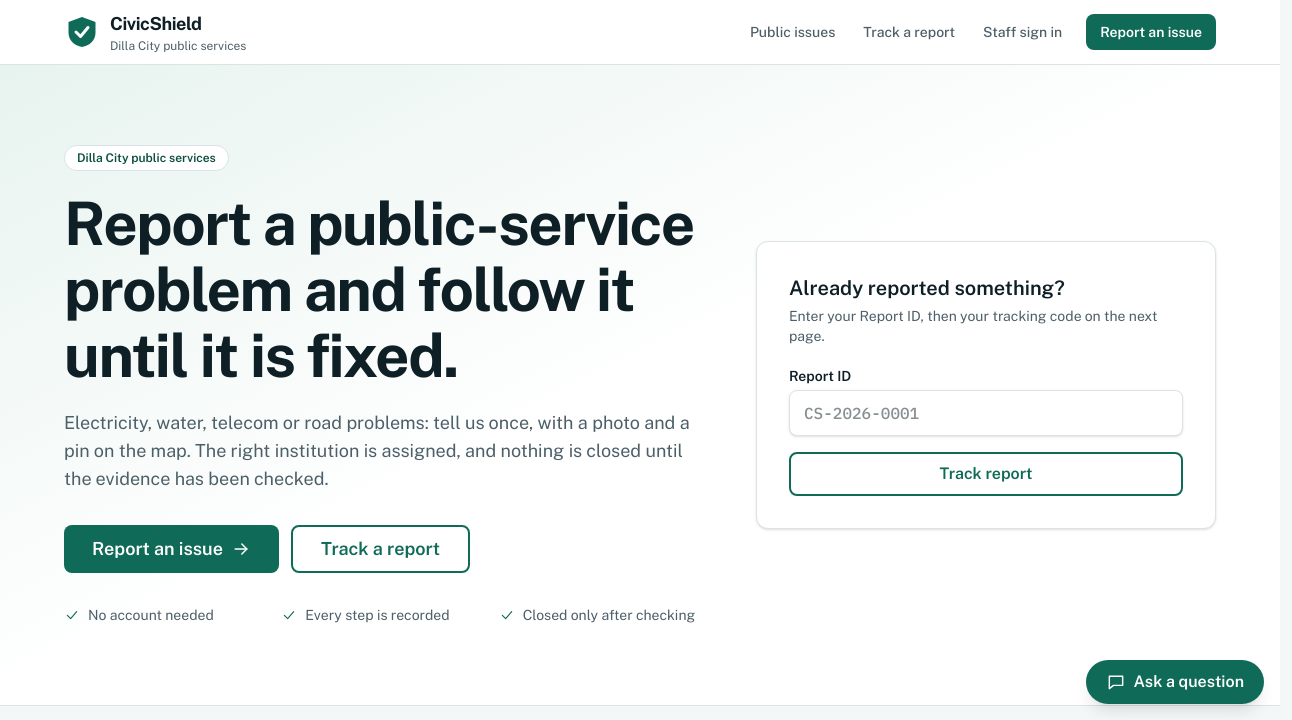
Test: citizen flow › answers from the chatbot and links to tracking
Step 1. Click the button "Ask a question" → (1175, 682), box [1086,660,1264,704]
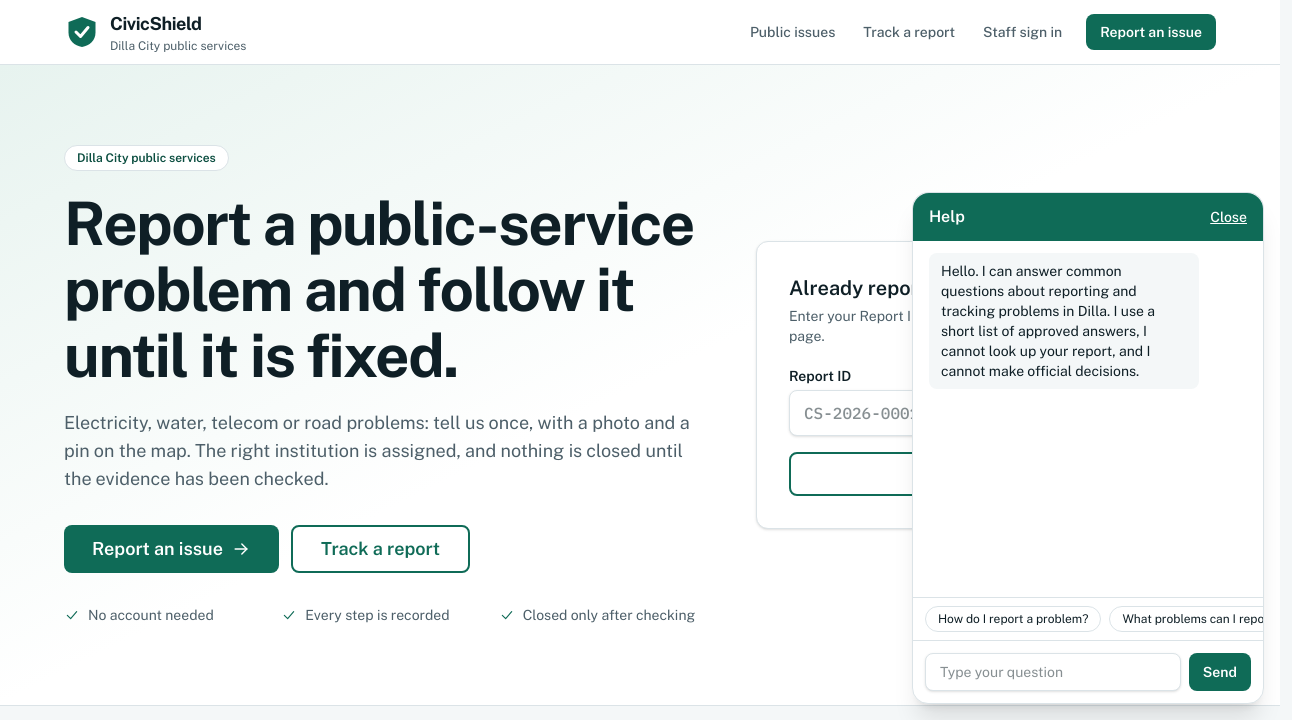
Step 2. Type "How do I track my report?" into the field labelled "your question" → (1053, 672), box [925,653,1181,691]
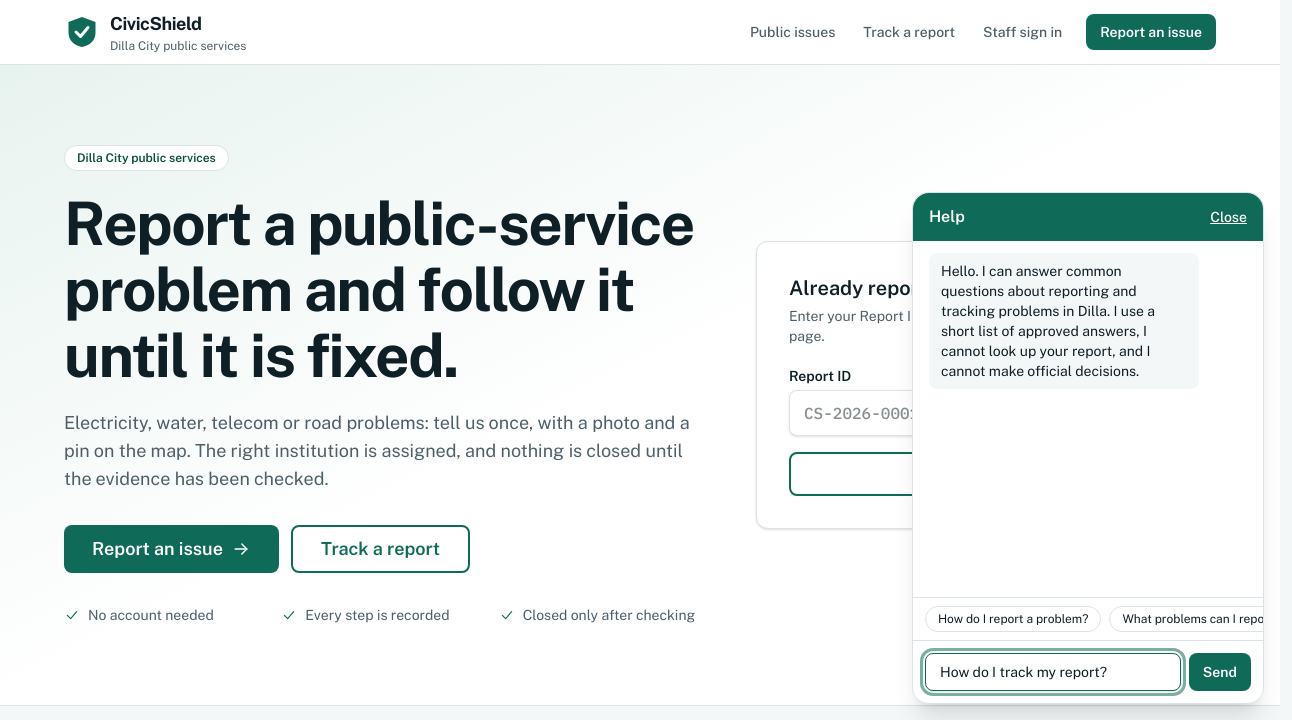
Step 3. Click the button "Send" → (1220, 672), box [1189,653,1251,691]
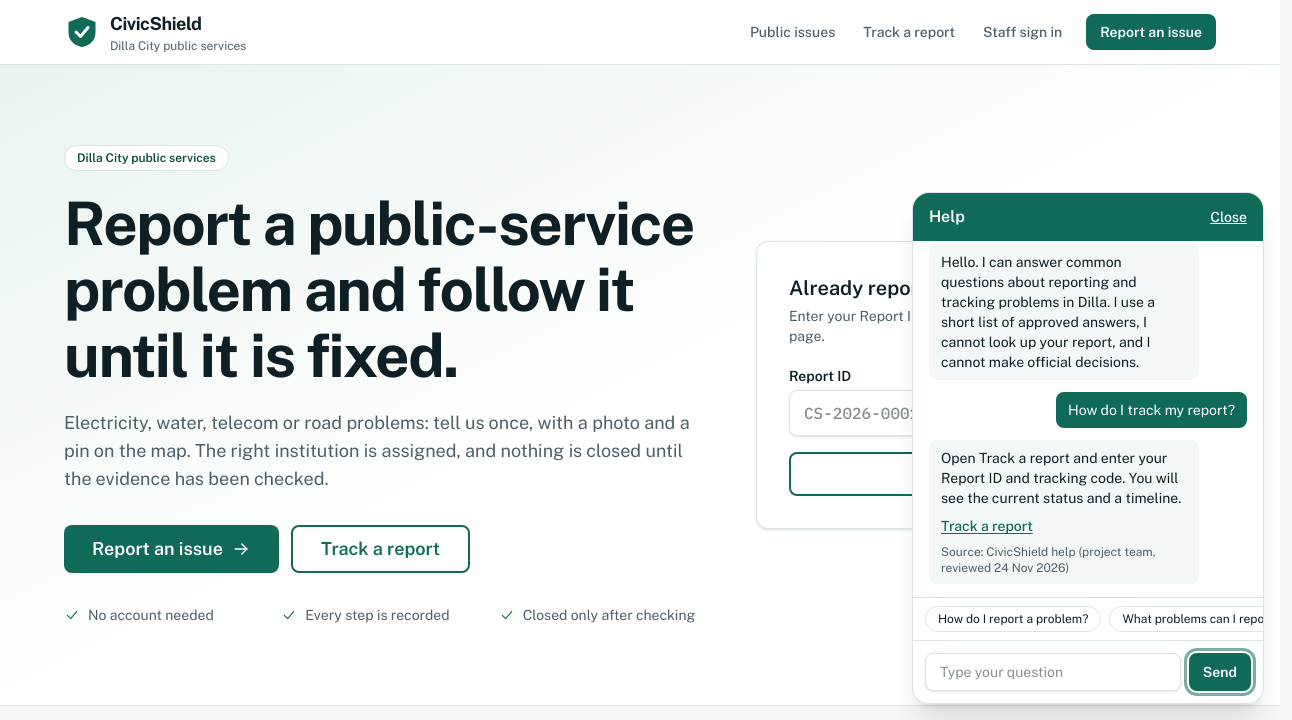
Check: the text "enter your Report ID and tracking code" is shown, box [941,450,1181,506]
